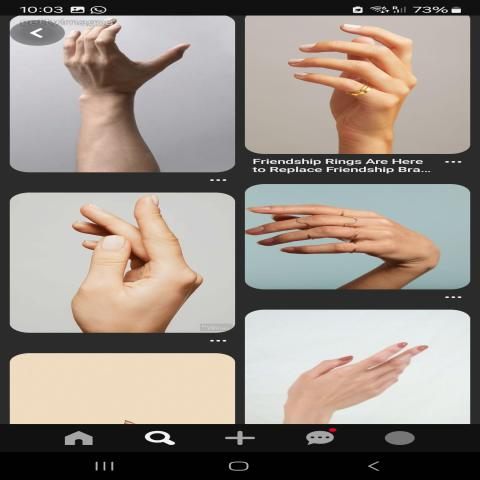hands: (276, 16, 456, 152), (66, 16, 209, 167), (253, 188, 461, 290), (58, 199, 215, 333), (258, 319, 259, 320)
